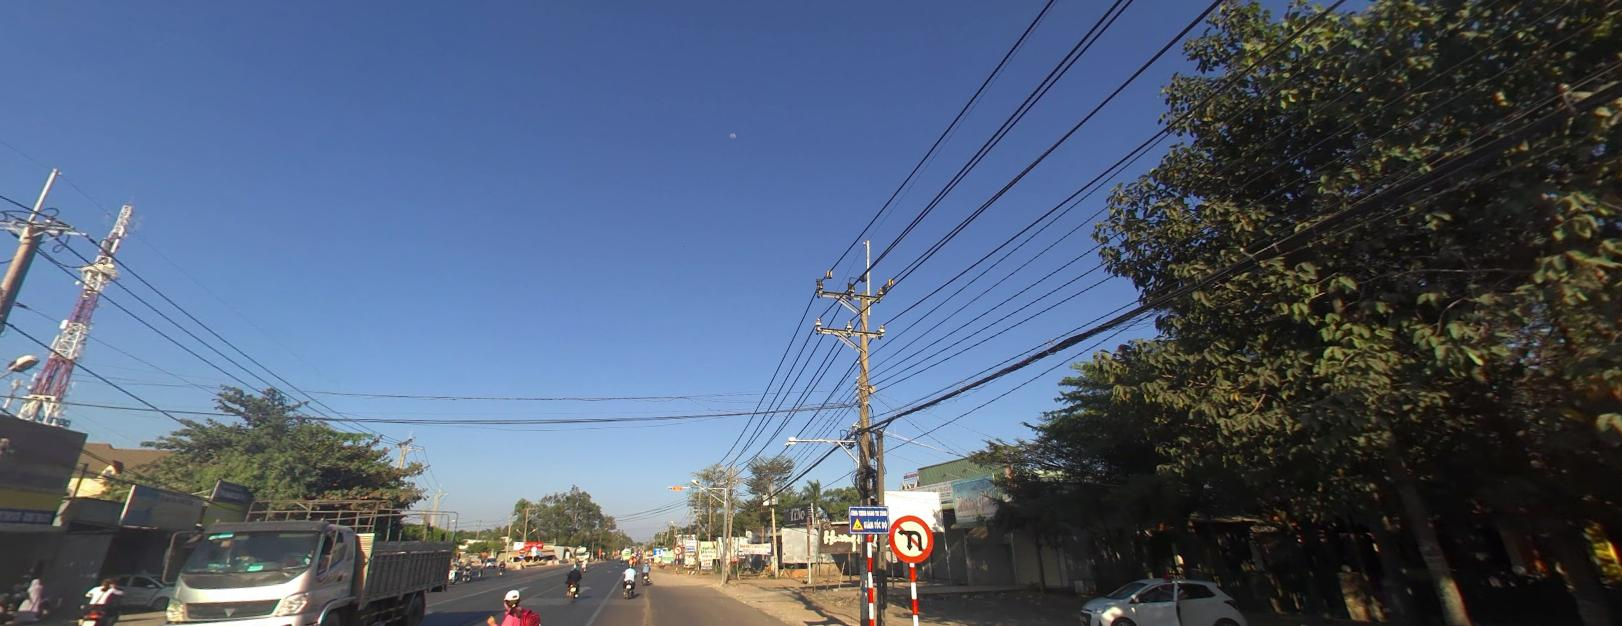Cam nguoc chieu: (518, 547, 524, 552)
Cam re: (888, 513, 934, 561), (673, 544, 682, 554)
Hieu lenh: (518, 553, 524, 558)
Nguy hiem: (851, 515, 863, 529), (647, 548, 652, 554)
